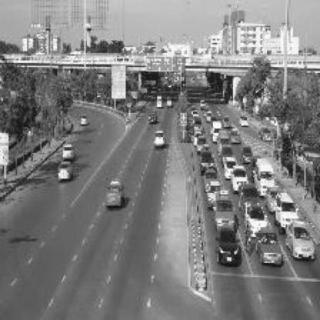other: (280, 220, 317, 264)
